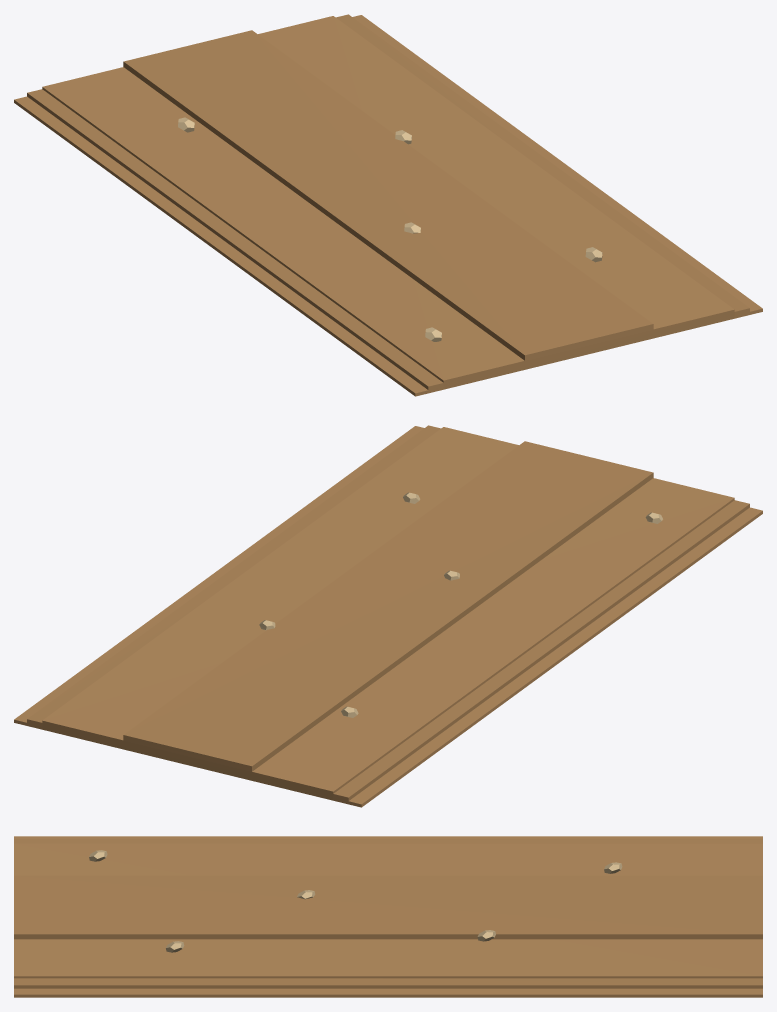
Rendered from Gravel-Road.glb.
3 renders of one model, top to bottom at view 1: azimuth 30°, elevation 25°; view 2: azimuth 150°, elevation 25°; view 3: azimuth 270°, elevation 25°, orthographic. The views are drawn at different scales.
Parts seen in each view (by area): view 1: gravel-road-static-gravel-road-gray-aggregate, gravel-road-static-gravel-road-crowned-center, gravel-road-static-gravel-road-drainage-shoulder, gravel-road-static-gravel-road-shallow-drainage, gravel-road-static-gravel-road-faceted-stones; view 2: gravel-road-static-gravel-road-gray-aggregate, gravel-road-static-gravel-road-crowned-center, gravel-road-static-gravel-road-drainage-shoulder, gravel-road-static-gravel-road-shallow-drainage, gravel-road-static-gravel-road-faceted-stones; view 3: gravel-road-static-gravel-road-gray-aggregate, gravel-road-static-gravel-road-crowned-center, gravel-road-static-gravel-road-drainage-shoulder, gravel-road-static-gravel-road-shallow-drainage, gravel-road-static-gravel-road-faceted-stones.
Boxes of the visible parts, x1,y1,x2,y2 form: gravel-road-static-gravel-road-gray-aggregate: [42, 16, 734, 389]; gravel-road-static-gravel-road-crowned-center: [123, 30, 653, 360]; gravel-road-static-gravel-road-drainage-shoulder: [27, 14, 749, 393]; gravel-road-static-gravel-road-shallow-drainage: [14, 15, 762, 396]; gravel-road-static-gravel-road-faceted-stones: [178, 117, 602, 341]; gravel-road-static-gravel-road-gray-aggregate: [42, 427, 734, 800]; gravel-road-static-gravel-road-crowned-center: [123, 441, 653, 771]; gravel-road-static-gravel-road-drainage-shoulder: [27, 425, 749, 803]; gravel-road-static-gravel-road-shallow-drainage: [14, 426, 762, 807]; gravel-road-static-gravel-road-faceted-stones: [259, 492, 662, 717]; gravel-road-static-gravel-road-gray-aggregate: [14, 843, 762, 978]; gravel-road-static-gravel-road-crowned-center: [14, 875, 762, 939]; gravel-road-static-gravel-road-drainage-shoulder: [14, 839, 762, 988]; gravel-road-static-gravel-road-shallow-drainage: [14, 836, 762, 997]; gravel-road-static-gravel-road-faceted-stones: [89, 850, 622, 952].
Size of the model in its own units: 4 by 0.2151 by 8.
